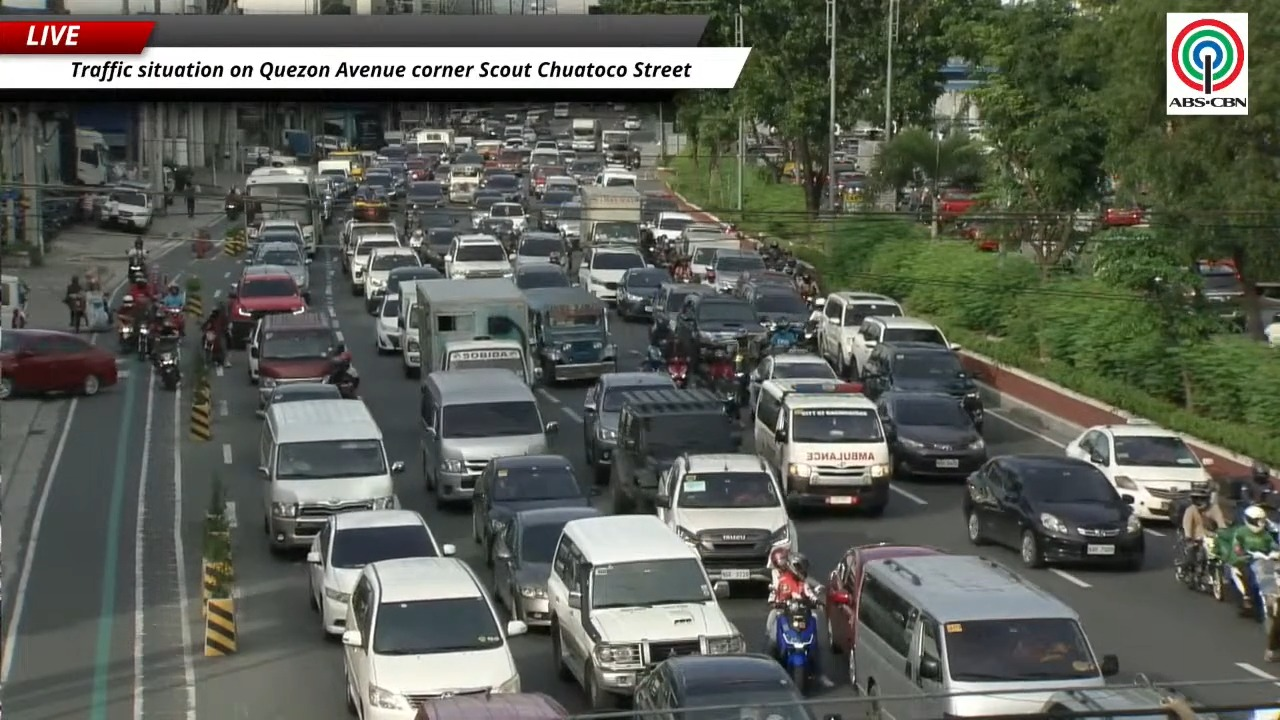bus: (245, 167, 322, 249)
car: (342, 558, 526, 719), (962, 455, 1144, 570), (307, 509, 455, 634), (655, 453, 797, 582), (609, 388, 741, 514), (1065, 421, 1212, 520), (471, 455, 588, 566), (493, 507, 600, 626), (633, 655, 815, 719), (861, 341, 984, 429), (582, 372, 674, 482), (877, 391, 987, 478), (246, 310, 339, 410), (0, 329, 117, 399), (836, 316, 960, 378), (817, 291, 903, 377), (228, 265, 305, 347), (827, 543, 944, 594), (675, 293, 763, 356), (749, 352, 837, 411), (246, 241, 310, 301), (363, 247, 421, 313), (578, 246, 645, 301), (349, 235, 402, 296), (340, 219, 400, 272), (444, 234, 512, 278), (652, 282, 713, 331), (703, 248, 765, 293), (742, 285, 810, 326), (617, 267, 670, 319), (250, 218, 313, 256), (264, 382, 341, 413), (513, 231, 569, 266), (534, 188, 577, 233), (420, 227, 461, 273), (734, 269, 796, 298), (376, 293, 403, 353), (385, 266, 443, 293), (513, 263, 570, 289), (470, 188, 505, 226), (650, 212, 694, 242), (406, 181, 447, 210), (488, 203, 526, 232), (483, 174, 521, 202), (543, 174, 578, 198), (623, 116, 641, 130)
motorcycle: (1170, 497, 1228, 601), (774, 598, 822, 693), (1175, 530, 1224, 600), (1231, 551, 1279, 621), (699, 343, 740, 415), (154, 343, 182, 391), (765, 323, 802, 353), (324, 368, 359, 399), (639, 345, 667, 371), (666, 356, 688, 388), (117, 320, 137, 353), (202, 329, 219, 366), (136, 323, 152, 360), (164, 307, 185, 335), (127, 258, 147, 283)
truck: (413, 278, 535, 384), (579, 186, 642, 246), (282, 129, 314, 163), (571, 119, 600, 152)
